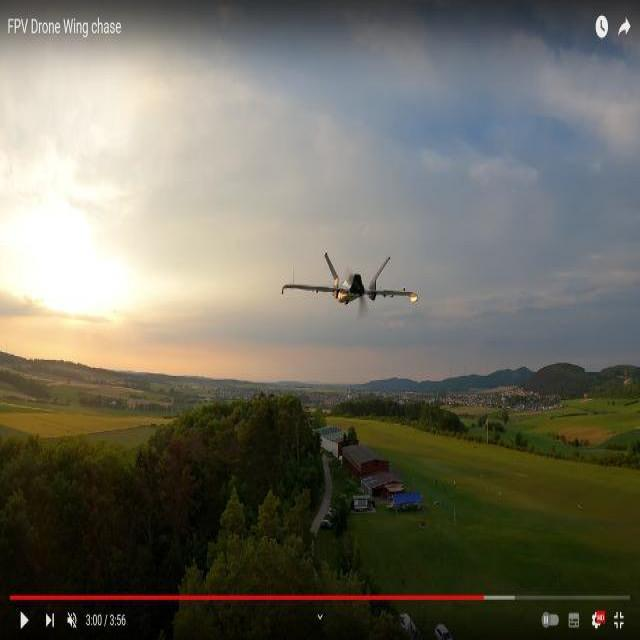UAV: (280, 252, 426, 330)
